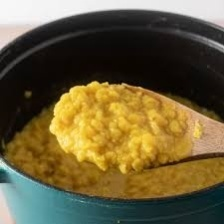dal: (6, 73, 224, 198)
